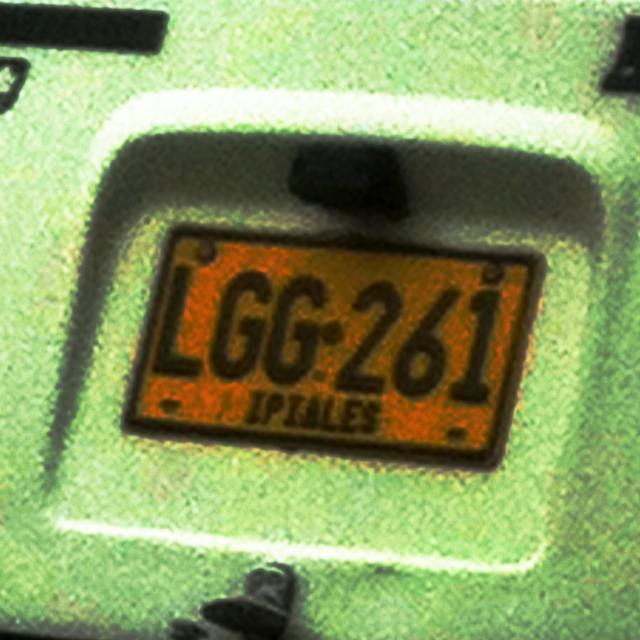city_name: (236, 387, 396, 451)
license_plate: (120, 219, 542, 470)
